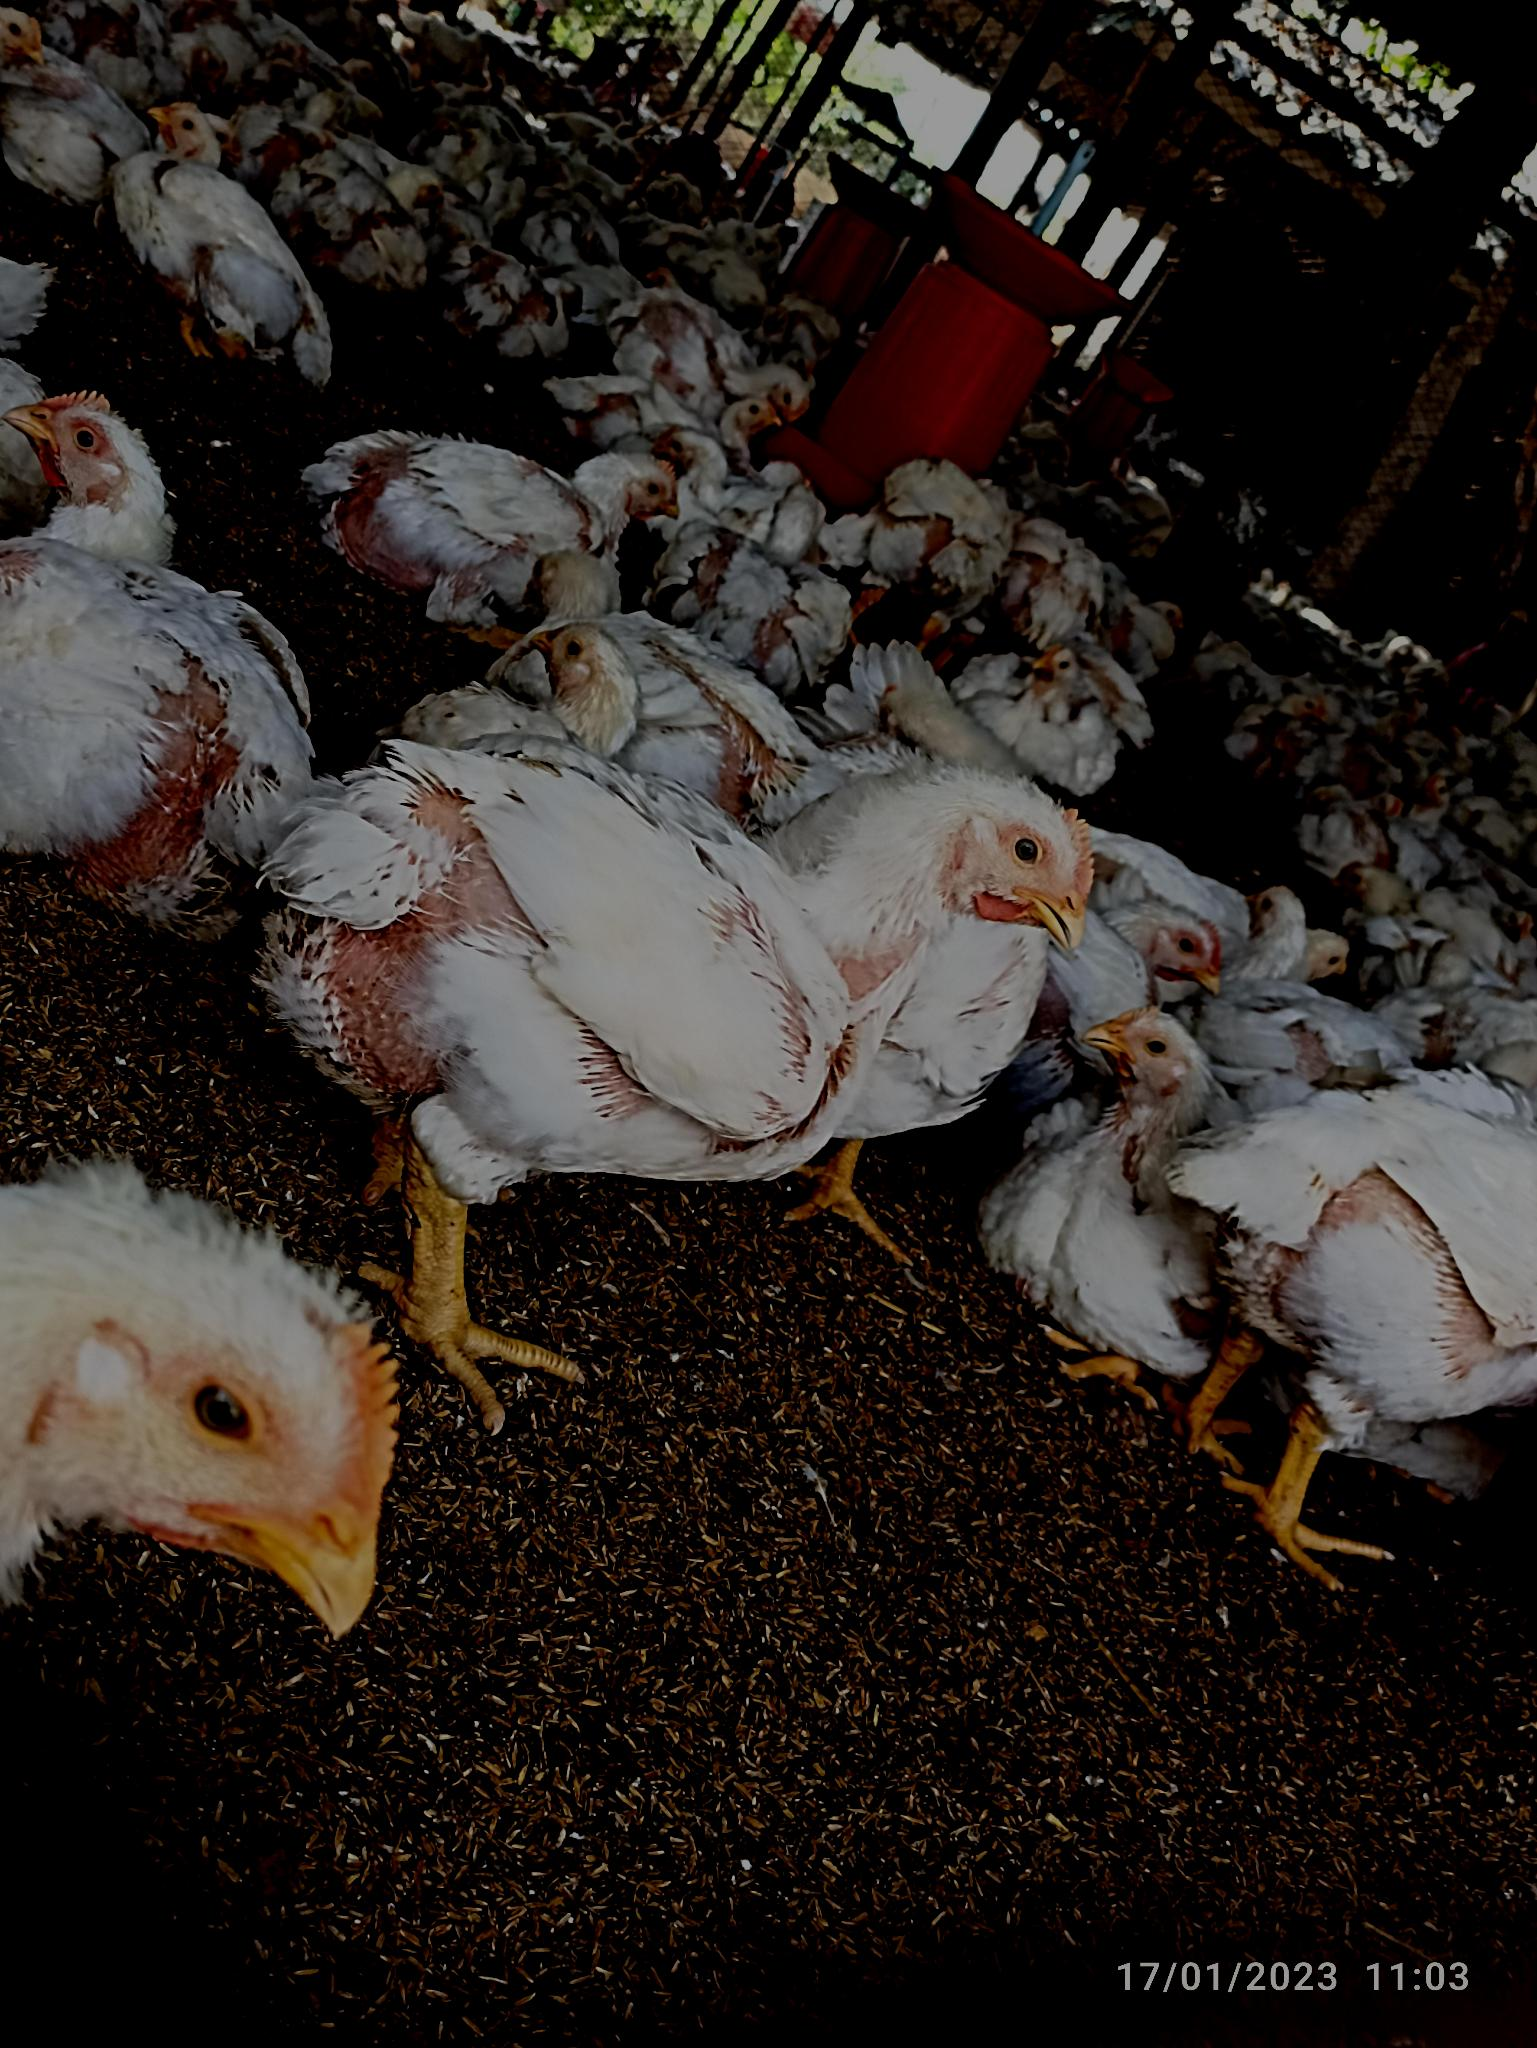Pollos: (307, 771, 1103, 1175), (10, 1165, 400, 1636), (2, 386, 266, 913), (98, 87, 339, 386), (337, 436, 691, 596), (1045, 1022, 1237, 1315), (631, 289, 815, 426), (867, 457, 1011, 605), (977, 637, 1137, 767), (441, 242, 563, 352)
